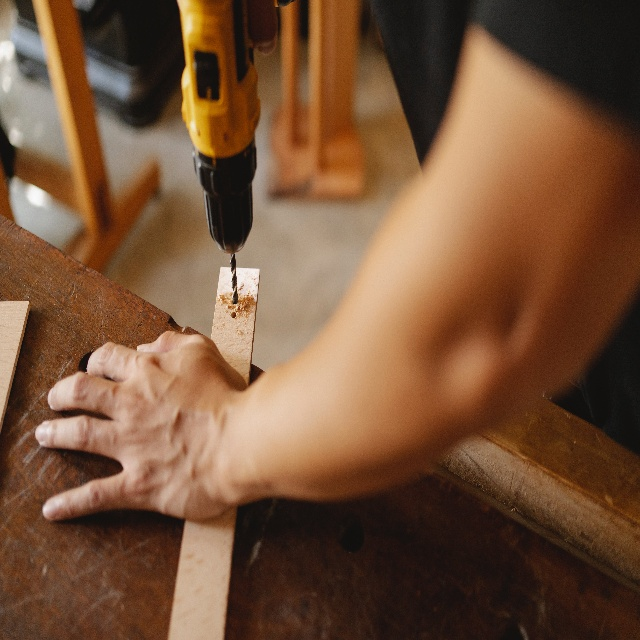Sin_guantes: (35, 329, 247, 524)
